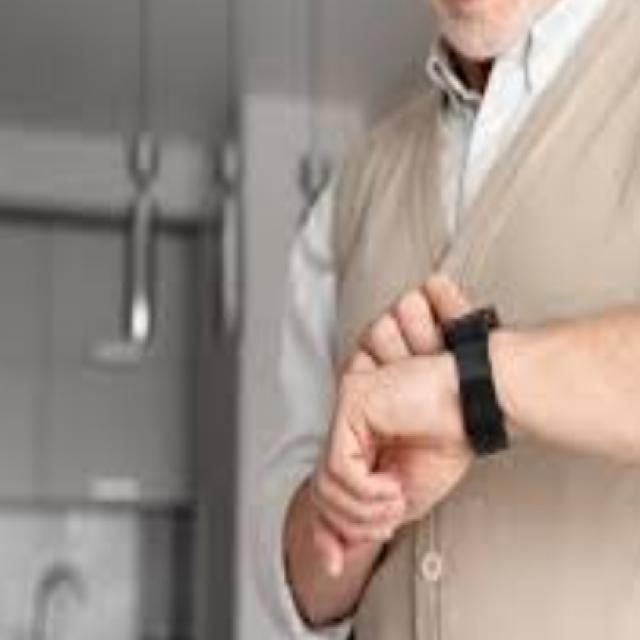Watch: (440, 302, 510, 460)
